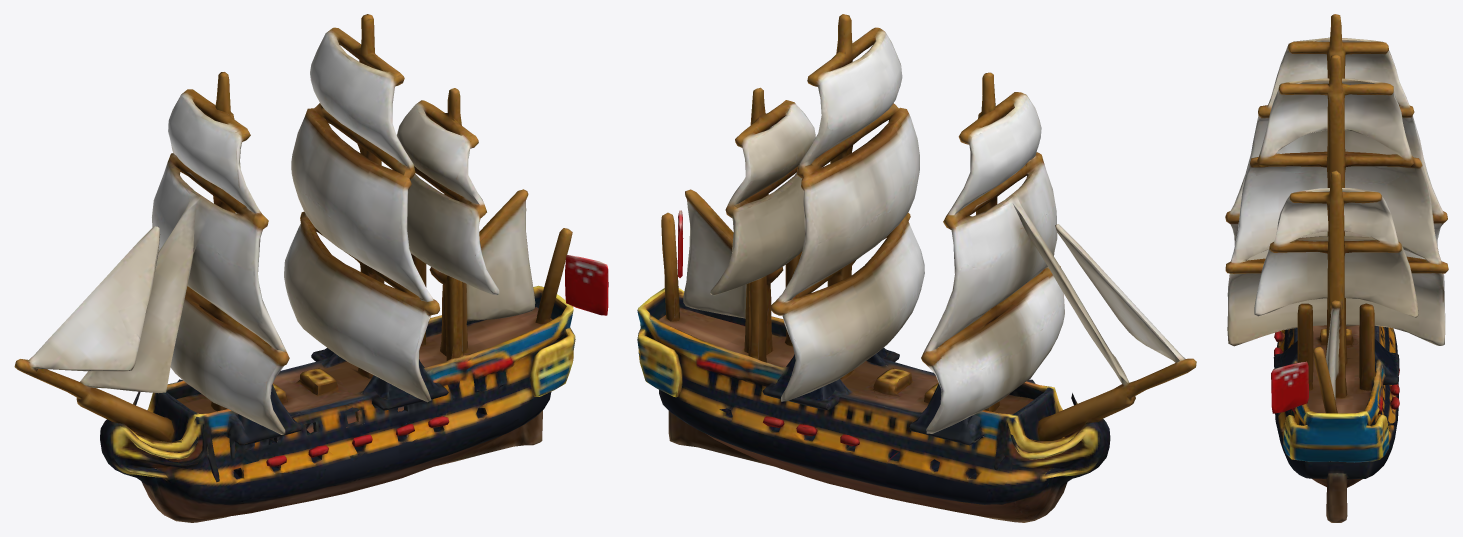
The model's file is ship_b.glb.
The picture shows the model from 3 angles, left to right: view 1: azimuth 30°, elevation 25°; view 2: azimuth 150°, elevation 25°; view 3: azimuth 270°, elevation 25°; orthographic projection. The views are drawn at different scales.
Parts seen in each view (by area): view 1: world; view 2: world; view 3: world.
Part boxes in pixels (<box>): world: <box>14,14,608,522</box>; world: <box>637,14,1196,522</box>; world: <box>1225,14,1448,522</box>.
Bounding box in the file's own units: 1 × 0.8057 × 0.4108.
Materials: 1 (1 with a texture image).
